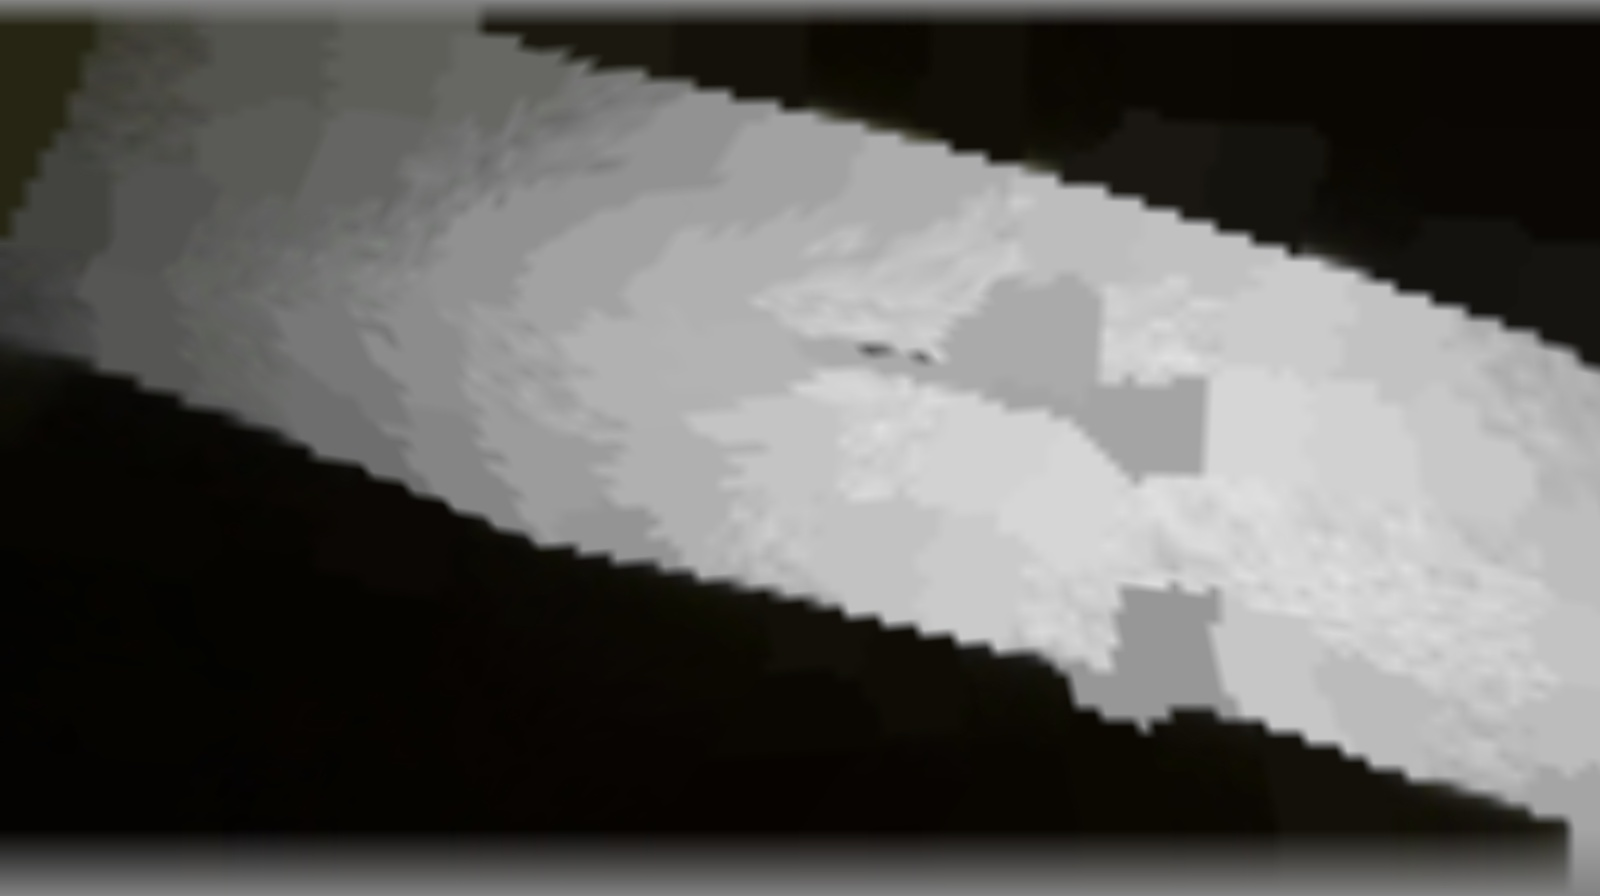S002: (735, 294, 1181, 466)
